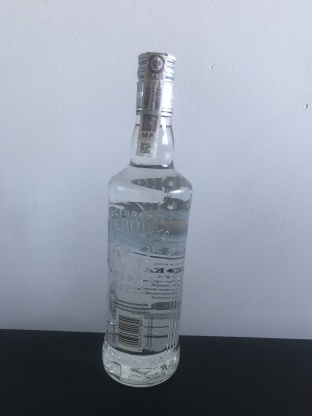nakretka: (133, 48, 179, 120)
